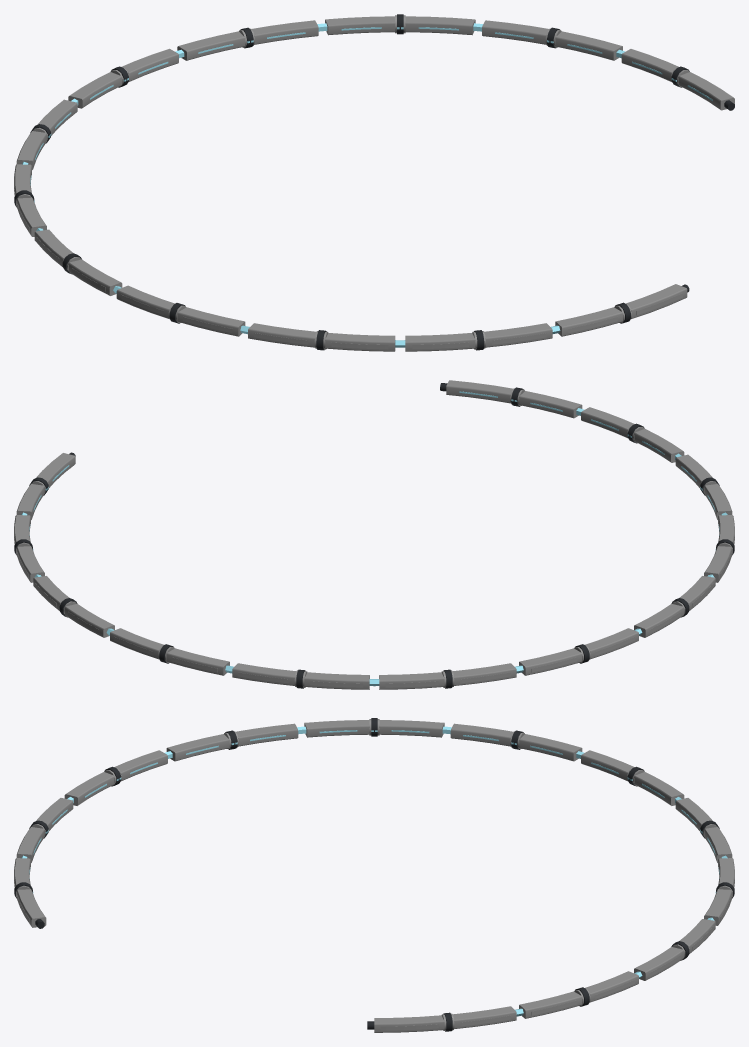
The model's file is Core_Ring_C.fbx.
3 views of the same model, one above another, from view 1: azimuth 30°, elevation 25°; view 2: azimuth 150°, elevation 25°; view 3: azimuth 270°, elevation 25° (orthographic). The views are drawn at different scales.
Parts seen in each view (by area): view 1: Core_Ring_C_LOD0; view 2: Core_Ring_C_LOD0; view 3: Core_Ring_C_LOD0.
Boxes of the visible parts, bbox=[...] form: Core_Ring_C_LOD0: bbox=[14, 14, 734, 351]; Core_Ring_C_LOD0: bbox=[14, 380, 734, 689]; Core_Ring_C_LOD0: bbox=[14, 718, 734, 1032].
Size of what is drawn, in the model's own units: 22.94 by 0.5796 by 22.89.
